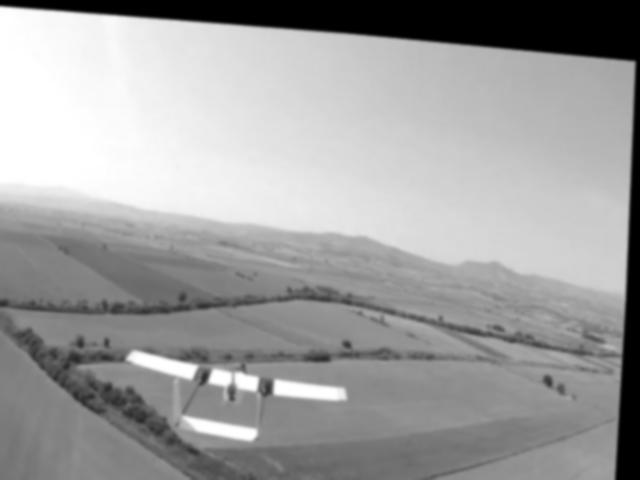hedef: (121, 332, 357, 450)
